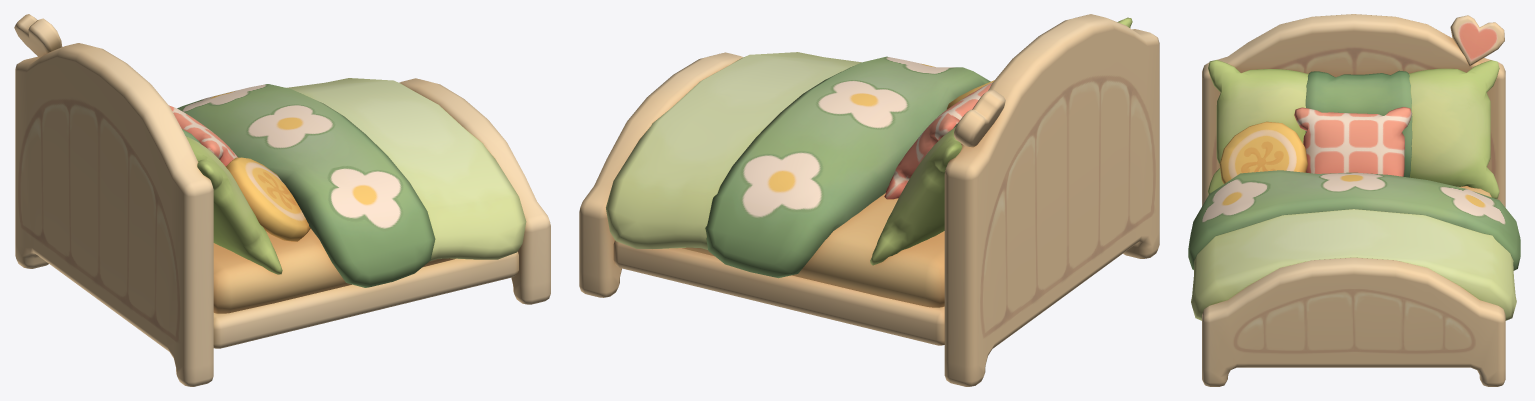
The model's file is bed_F.fbx.
3 views of the same model, side by side, from view 1: azimuth 30°, elevation 25°; view 2: azimuth 150°, elevation 25°; view 3: azimuth 270°, elevation 25° (orthographic). The views are drawn at different scales.
Parts seen in each view (by area): view 1: Plane, Plane.003, Plane.001, Plane.009, Plane.002, Plane.008, Plane.004, Plane.007, Circle, Plane.005; view 2: Plane, Plane.003, Plane.001, Plane.009, Plane.002, Plane.008, Plane.004, Plane.005, Circle; view 3: Plane.008, Plane.001, Plane.004, Plane, Plane.003, Plane.005, Plane.006, Plane.007, Circle.
Boxes of the visible parts, left/top/right/bottom form: Plane: left=15, top=43, right=213, bottom=386; Plane.003: left=177, top=84, right=435, bottom=287; Plane.001: left=286, top=78, right=526, bottom=261; Plane.009: left=213, top=251, right=518, bottom=348; Plane.002: left=213, top=229, right=455, bottom=313; Plane.008: left=399, top=78, right=550, bottom=304; Plane.004: left=186, top=136, right=282, bottom=274; Plane.007: left=226, top=157, right=310, bottom=241; Circle: left=14, top=14, right=62, bottom=57; Plane.005: left=169, top=105, right=237, bottom=166; Plane: left=944, top=14, right=1159, bottom=386; Plane.003: left=705, top=56, right=990, bottom=278; Plane.001: left=606, top=52, right=861, bottom=249; Plane.009: left=613, top=240, right=944, bottom=345; Plane.002: left=682, top=193, right=944, bottom=307; Plane.008: left=579, top=52, right=743, bottom=297; Plane.004: left=870, top=17, right=1132, bottom=265; Plane.005: left=884, top=82, right=992, bottom=199; Circle: left=953, top=89, right=1005, bottom=147; Plane.008: left=1202, top=257, right=1505, bottom=386; Plane.001: left=1191, top=209, right=1516, bottom=320; Plane.004: left=1207, top=60, right=1499, bottom=198; Plane: left=1202, top=14, right=1505, bottom=207; Plane.003: left=1188, top=170, right=1520, bottom=270; Plane.005: left=1294, top=107, right=1412, bottom=176; Plane.006: left=1305, top=70, right=1412, bottom=177; Plane.007: left=1219, top=121, right=1307, bottom=183; Circle: left=1450, top=15, right=1504, bottom=66.
Size of the model in its own units: 188 by 126 by 169.
